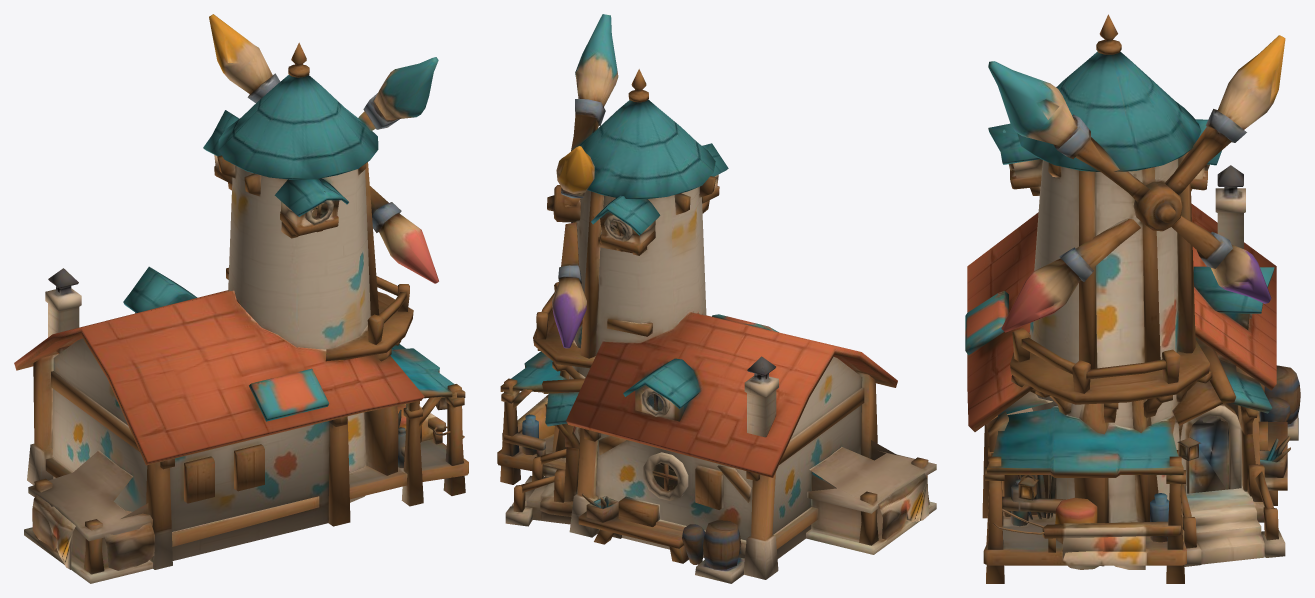
Rendered from paint-mill-web.glb.
3 views of the same model, side by side, from view 1: azimuth 30°, elevation 25°; view 2: azimuth 150°, elevation 25°; view 3: azimuth 270°, elevation 25° (orthographic). The views are drawn at different scales.
Visible parts, largest first — view 1: tripo_node_9c8ac19c-a3ff-40b6-a9cc-c81037386d55; view 2: tripo_node_9c8ac19c-a3ff-40b6-a9cc-c81037386d55; view 3: tripo_node_9c8ac19c-a3ff-40b6-a9cc-c81037386d55.
Part boxes in pixels (bbox=[...]): tripo_node_9c8ac19c-a3ff-40b6-a9cc-c81037386d55: bbox=[14, 14, 468, 583]; tripo_node_9c8ac19c-a3ff-40b6-a9cc-c81037386d55: bbox=[497, 14, 936, 583]; tripo_node_9c8ac19c-a3ff-40b6-a9cc-c81037386d55: bbox=[965, 14, 1300, 583].
Bounding box in the file's own units: 0.9199 × 0.998 × 0.5996.
Materials: 1 (1 with a texture image).
